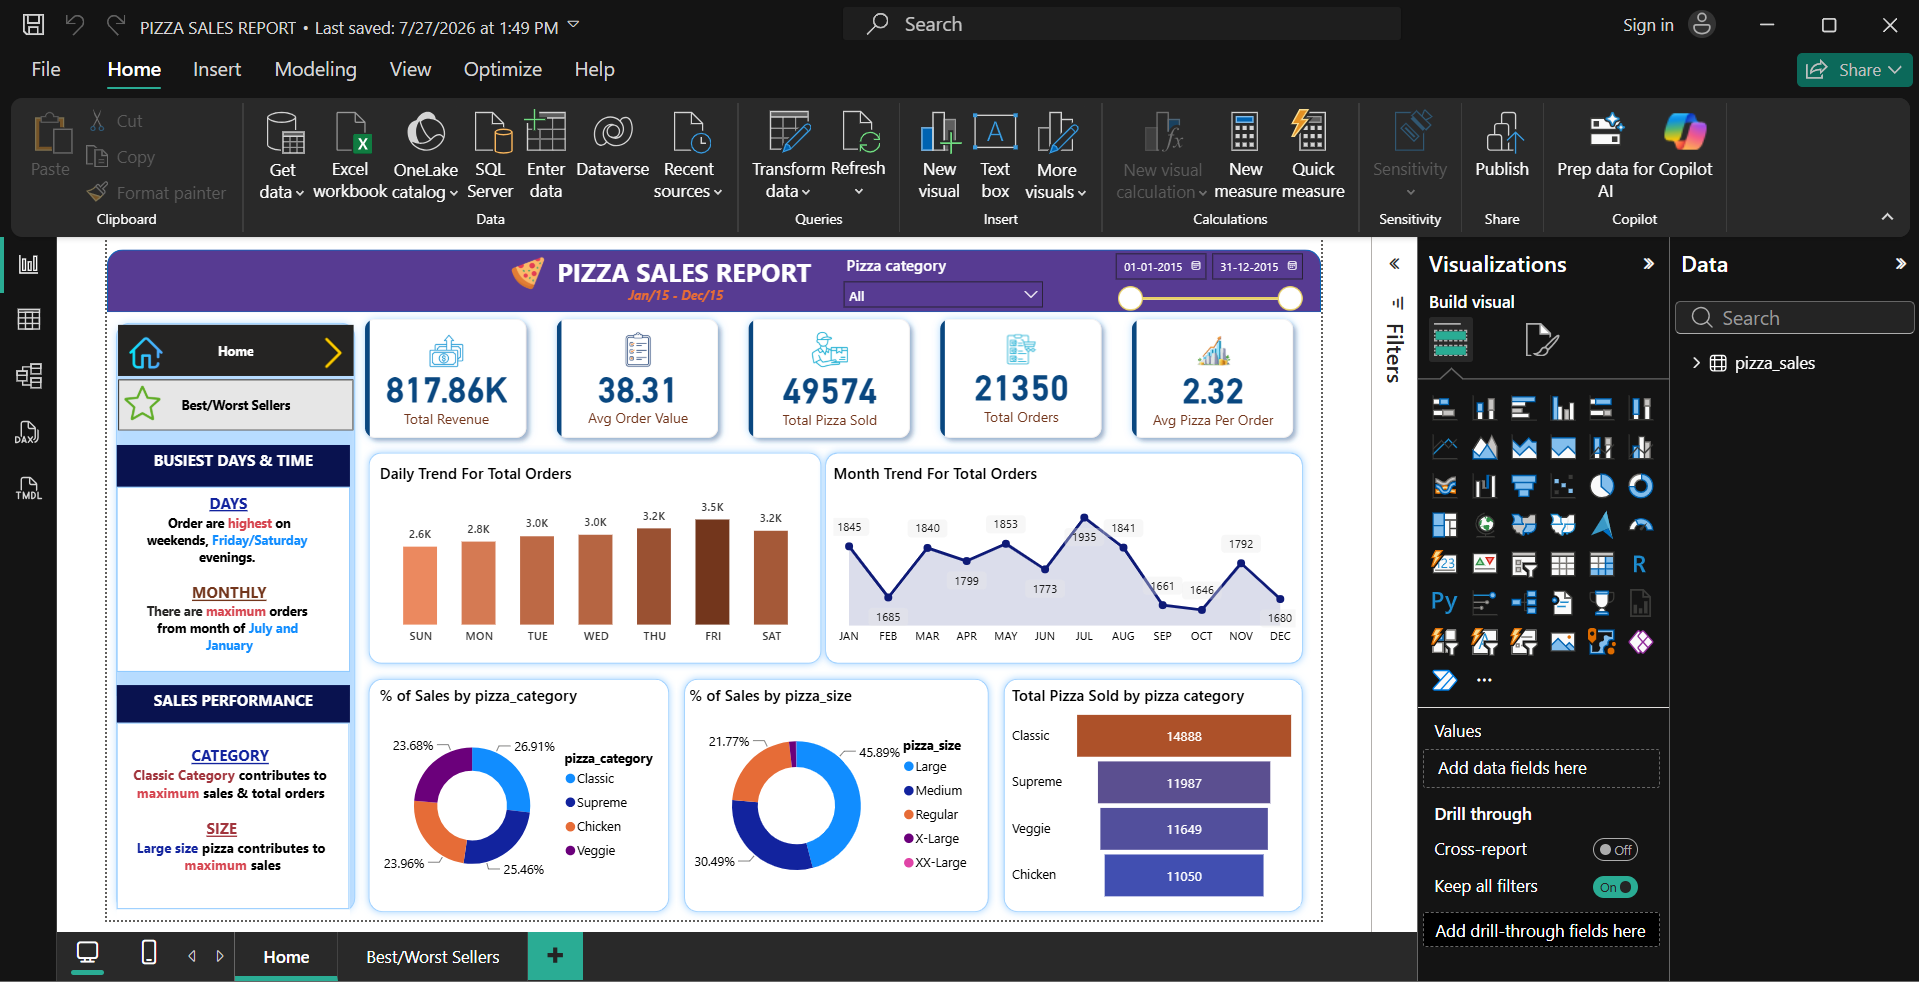

This screenshot's page, from the dashboard's own definition file:
{"tool":"powerbi","page":{"name":"Home","canvas":[1280,720],"ordinal":0},"visuals":[{"type":"cardVisual","fields":{"Data":["pizza_sales.Total Revenue","pizza_sales.Avg Order Value","pizza_sales.Total Pizza Sold","pizza_sales.Total Orders","pizza_sales.Avg Pizza Per Order"]},"box":[243.3,57.9,1036.1,183.7],"z":0},{"type":"shape","box":[0,13.2,1279.4,66.2],"z":1000},{"type":"textbox","box":[450.4,13.2,316.5,50],"z":2000},{"type":"textbox","box":[487.2,47.1,225.2,32.4],"z":3000},{"type":"image","box":[419.5,20.6,48.6,35.3],"z":4000},{"type":"shape","box":[267.9,219.3,493.1,238.4],"z":5000},{"type":"clusteredColumnChart","title":"Daily Trend For Total Orders","fields":{"Category":["pizza_sales.Order Day"],"Y":["pizza_sales.Total Orders"]},"box":[282.6,238.4,466.6,200.2],"z":6000},{"type":"shape","box":[749.2,219.3,519.6,238.4],"z":7000},{"type":"areaChart","title":"Month Trend For Total Orders","fields":{"Category":["pizza_sales.Order Month"],"Y":["pizza_sales.Total Orders"]},"box":[761,238.4,497.5,200.2],"z":8000},{"type":"shape","box":[267.9,457.8,332.6,262],"z":9000},{"type":"shape","box":[600.5,457.8,337.1,262],"z":10000},{"type":"shape","box":[937.6,457.8,331.2,262],"z":11000},{"type":"donutChart","title":"% of Sales by pizza_category","fields":{"Category":["pizza_sales.pizza_category"],"Y":["pizza_sales.Total Revenue"]},"box":[282.6,472.5,304.7,232.6],"z":12000},{"type":"donutChart","title":"% of Sales by pizza_size","fields":{"Y":["pizza_sales.Total Revenue"],"Series":["pizza_sales.pizza_size"]},"box":[609.4,472.5,315,232.6],"z":13000},{"type":"funnel","title":"Total Pizza Sold by pizza category","fields":{"Category":["pizza_sales.pizza_category"],"Y":["pizza_sales.Total Pizza Sold"]},"box":[949.4,472.5,309.1,232.6],"z":14000},{"type":"shape","box":[1.7,82.8,268.1,637.2],"z":15000},{"type":"textbox","box":[9.6,218.6,245.7,44.7],"z":16000},{"type":"textbox","box":[9.6,263.3,245.7,194.7],"z":17000},{"type":"textbox","box":[9.6,483.4,245.7,236.1],"z":18000},{"type":"textbox","box":[9.6,472.3,245.7,39.9],"z":19000},{"type":"textbox","box":[9.9,511.4,245,196],"z":20000},{"type":"slicer","fields":{"Values":["pizza_sales.pizza_category"]},"box":[766.8,13.2,229.6,66.2],"z":21000},{"type":"slicer","fields":{"Values":["pizza_sales.order_date"]},"box":[1050.9,7.4,217.8,76.5],"z":22000},{"type":"pageNavigator","box":[11.6,92.7,248.3,54],"z":23000},{"type":"pageNavigator","box":[11.6,150.6,248.3,54],"z":24000},{"type":"image","box":[221.8,96,33.1,53],"z":25000},{"type":"image","box":[23.2,96,34.8,53],"z":26000},{"type":"image","box":[18.2,155.6,39.7,38.1],"z":27000}]}

Visuals, with their boxes on the page's 1280x720 design canvas (x1, y1, x2, y2). These are canvas units, not pixel positions in the 1924x982 screenshot, which may show the page scaled, cropped or inside an application window:
cardVisual - pizza_sales.Total Revenue x pizza_sales.Avg Order Value: [243,58,1279,242]
shape: [0,13,1279,79]
textbox: [450,13,767,63]
textbox: [487,47,712,80]
image: [420,21,468,56]
shape: [268,219,761,458]
"Daily Trend For Total Orders" clusteredColumnChart: [283,238,749,439]
shape: [749,219,1269,458]
"Month Trend For Total Orders" areaChart: [761,238,1258,439]
shape: [268,458,600,720]
shape: [600,458,938,720]
shape: [938,458,1269,720]
"% of Sales by pizza_category" donutChart: [283,472,587,705]
"% of Sales by pizza_size" donutChart: [609,472,924,705]
"Total Pizza Sold by pizza category" funnel: [949,472,1258,705]
shape: [2,83,270,720]
textbox: [10,219,255,263]
textbox: [10,263,255,458]
textbox: [10,483,255,720]
textbox: [10,472,255,512]
textbox: [10,511,255,707]
slicer - pizza_sales.pizza_category: [767,13,996,79]
slicer - pizza_sales.order_date: [1051,7,1269,84]
pageNavigator: [12,93,260,147]
pageNavigator: [12,151,260,205]
image: [222,96,255,149]
image: [23,96,58,149]
image: [18,156,58,194]
